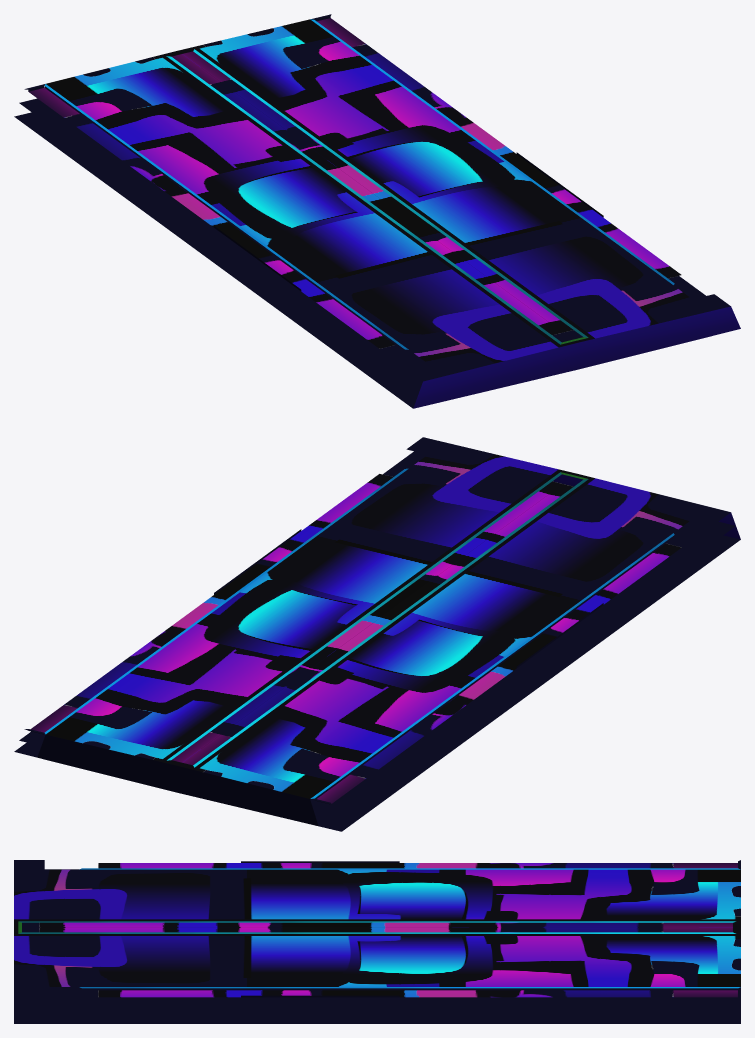
File: Road_Plane.fbx
The picture shows the model from 3 angles, top to bottom: view 1: azimuth 30°, elevation 25°; view 2: azimuth 150°, elevation 25°; view 3: azimuth 270°, elevation 25°; orthographic projection. The views are drawn at different scales.
Parts seen in each view (by area): view 1: Road_Plane_1; view 2: Road_Plane_1; view 3: Road_Plane_1.
Part boxes in pixels (x1=…): Road_Plane_1: x1=14, y1=14, x2=740, y2=408; Road_Plane_1: x1=14, y1=437, x2=740, y2=831; Road_Plane_1: x1=14, y1=860, x2=740, y2=1023.
Size of the model in its own units: 355 by 27.85 by 748.
